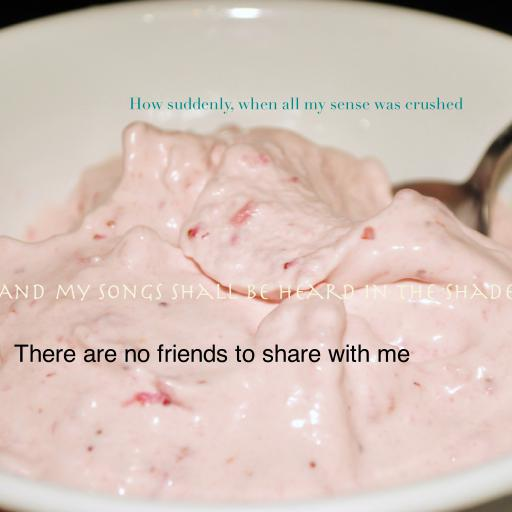Apple Chancery: (14, 344, 410, 363)
Didot: (129, 97, 463, 114)
Herculanum: (0, 283, 512, 301)
